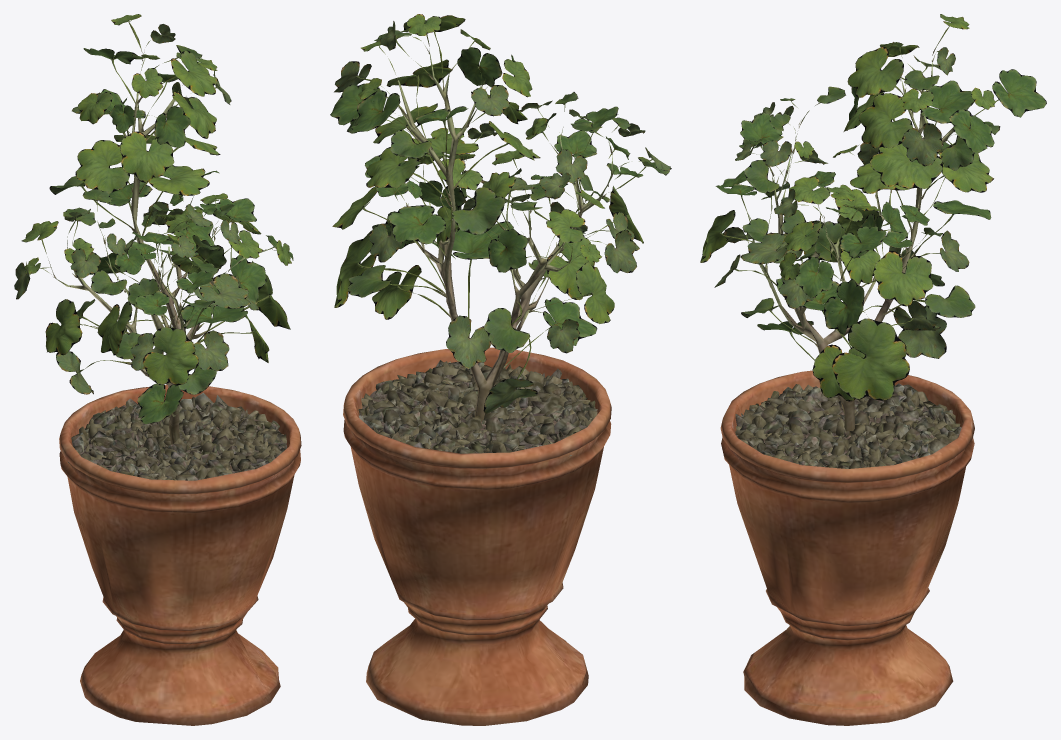
The model's file is plant-potted-01.bc624800.glb.
The picture shows the model from 3 angles, left to right: view 1: azimuth 30°, elevation 25°; view 2: azimuth 150°, elevation 25°; view 3: azimuth 270°, elevation 25°; orthographic projection. The views are drawn at different scales.
Parts seen in each view (by area): view 1: model; view 2: model; view 3: model.
Boxes of the visible parts, x1,y1,x2,y2 form: model: (14, 14, 301, 725); model: (330, 14, 671, 725); model: (700, 14, 1046, 725).
Bounding box in the file's own units: 0.5866 × 1.33 × 0.6336.
Materials: 2 (2 with a texture image).
